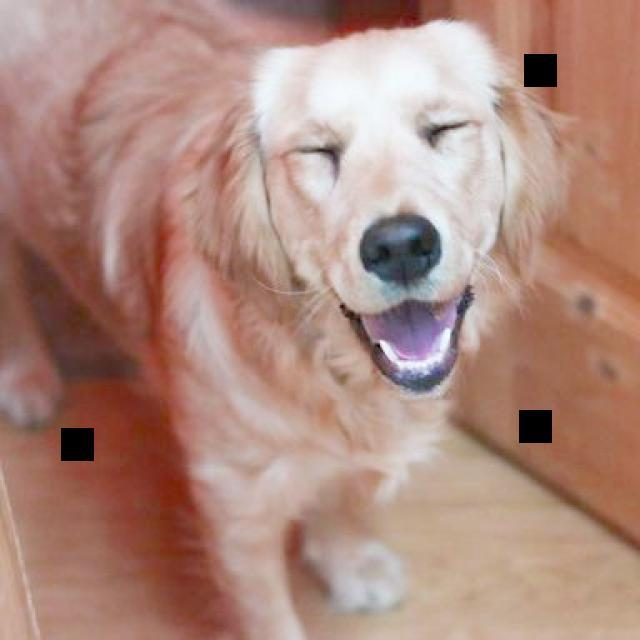adult_dog: (1, 1, 559, 634)
